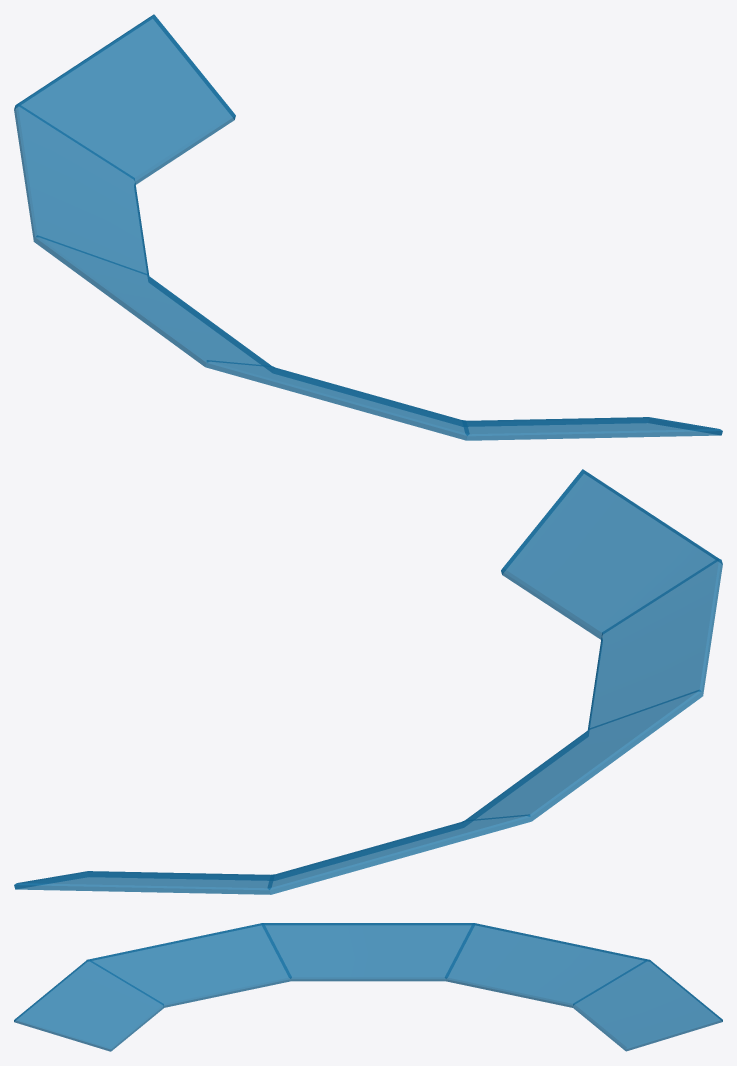
Rendered from wide_belt_UI_V3.FBX.
3 views of the same model, one above another, from view 1: azimuth 30°, elevation 25°; view 2: azimuth 150°, elevation 25°; view 3: azimuth 270°, elevation 25° (orthographic). The views are drawn at different scales.
Visible parts, largest first — view 1: Torus005, Torus004, Torus003, Torus002, Torus001; view 2: Torus001, Torus002, Torus003, Torus004, Torus005; view 3: Torus003, Torus002, Torus004, Torus005, Torus001.
Part boxes in pixels (x1,y1,x2,y2): Torus005: (14, 14, 235, 184); Torus004: (14, 104, 149, 279); Torus003: (34, 236, 274, 372); Torus002: (205, 360, 469, 440); Torus001: (462, 417, 722, 440); Torus001: (501, 469, 721, 639); Torus002: (587, 558, 722, 734); Torus003: (462, 690, 702, 826); Torus004: (268, 814, 531, 894); Torus005: (14, 871, 274, 894); Torus003: (261, 923, 475, 981); Torus002: (87, 923, 291, 1007); Torus004: (444, 923, 649, 1007); Torus005: (573, 959, 722, 1051); Torus001: (14, 960, 163, 1051).
Bounding box in the file's own units: 15.04 × 2.27 × 45.84.
